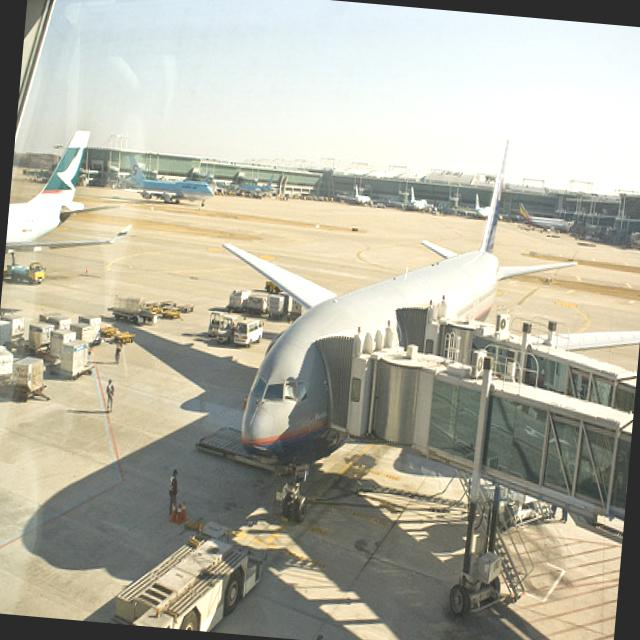Vehicle: (106, 524, 263, 636), (58, 338, 96, 383), (225, 288, 269, 316), (67, 312, 101, 348), (270, 296, 306, 326), (232, 317, 264, 348), (5, 260, 46, 284), (233, 315, 264, 346), (38, 310, 62, 322)
